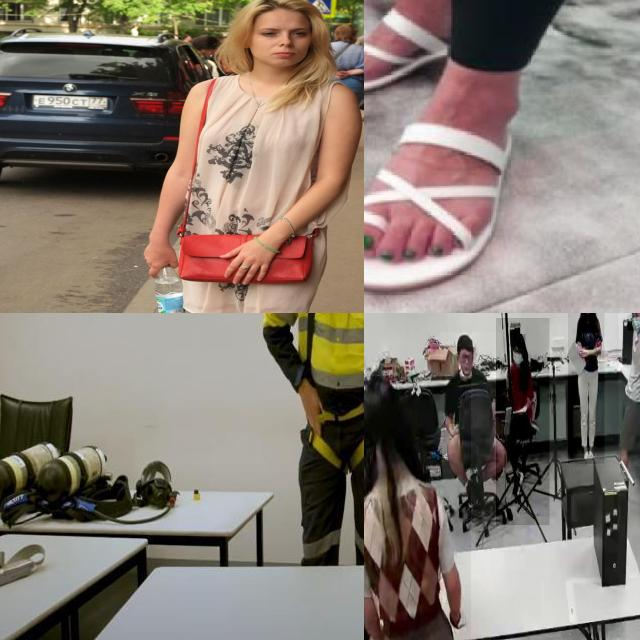Harness: (298, 313, 364, 475)
Sandals: (364, 50, 521, 295)
face_mask: (509, 348, 523, 370), (627, 315, 640, 331), (581, 313, 594, 322)
face_nomask: (458, 351, 474, 374)
hand_noglove: (578, 346, 589, 358), (450, 424, 460, 436), (594, 336, 602, 348)
head_nohelmet: (364, 377, 399, 414), (456, 333, 474, 348), (510, 334, 526, 346)
person: (364, 375, 471, 640), (496, 318, 550, 526), (441, 332, 503, 503), (568, 313, 605, 465), (618, 313, 640, 467)
